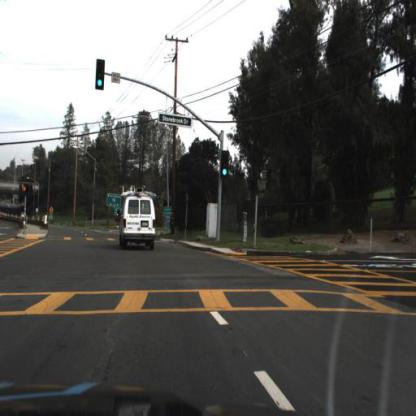car: (117, 191, 158, 248)
trafficLight-Green: (95, 60, 106, 96), (223, 151, 231, 180), (222, 163, 233, 183)
